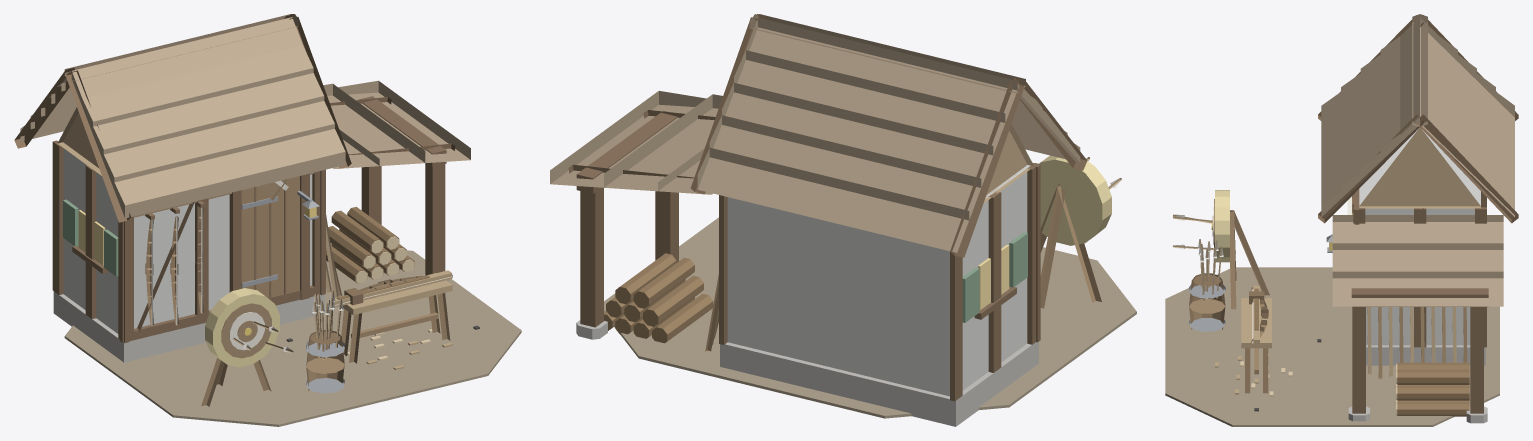
File: bowyer.glb
3 views of the same model, side by side, from view 1: azimuth 30°, elevation 25°; view 2: azimuth 150°, elevation 25°; view 3: azimuth 270°, elevation 25° (orthographic). The views are drawn at different scales.
Parts seen in each view (by area): view 1: Ground, Walls, Roof, Roof#2, Roof#3, Roof#4, Roof#5, Door, Plinth, Lean.Roof#2, Lean.Roof, Target (+34 smaller); view 2: Walls, Ground, Roof#6, Roof#7, Roof#8, Roof#9, Plinth, Roof#10, Lean.Roof#2, Target, Lean.Roof, Lean.Post (+25 smaller); view 3: Ground, Gable#2, Lean.Roof#2, Lean.Roof, Lean.Roof#3, Walls, Roof#3, Roof#4, Roof, Roof#2, Roof#5, Roof#6 (+23 smaller).
Part boxes in pixels (bbox=[...]): Ground: bbox=[64, 243, 521, 426]; Walls: bbox=[63, 148, 312, 333]; Roof: bbox=[114, 129, 345, 218]; Roof#2: bbox=[103, 101, 334, 189]; Roof#3: bbox=[93, 73, 324, 161]; Roof#4: bbox=[82, 45, 313, 133]; Roof#5: bbox=[71, 17, 302, 105]; Door: bbox=[241, 177, 299, 297]; Plinth: bbox=[53, 291, 324, 362]; Lean.Roof#2: bbox=[323, 83, 425, 165]; Lean.Roof: bbox=[338, 80, 470, 162]; Target: bbox=[205, 288, 279, 367]; Walls: bbox=[727, 165, 1030, 396]; Ground: bbox=[604, 217, 1136, 418]; Roof#6: bbox=[697, 147, 969, 252]; Roof#7: bbox=[709, 115, 981, 219]; Roof#8: bbox=[722, 82, 993, 186]; Roof#9: bbox=[734, 50, 1005, 154]; Plinth: bbox=[720, 342, 1038, 426]; Roof#10: bbox=[746, 18, 1017, 122]; Lean.Roof#2: bbox=[604, 94, 722, 191]; Target: bbox=[1039, 155, 1111, 245]; Lean.Roof: bbox=[550, 91, 706, 187]; Lean.Post: bbox=[580, 166, 603, 327]; Ground: bbox=[1165, 267, 1499, 426]; Gable#2: bbox=[1359, 127, 1480, 208]; Lean.Roof#2: bbox=[1332, 243, 1503, 271]; Lean.Roof: bbox=[1332, 271, 1503, 306]; Lean.Roof#3: bbox=[1332, 215, 1503, 243]; Walls: bbox=[1359, 128, 1480, 345]; Roof#3: bbox=[1360, 55, 1380, 179]; Roof#4: bbox=[1380, 36, 1400, 161]; Roof: bbox=[1321, 92, 1340, 216]; Roof#2: bbox=[1341, 73, 1360, 198]; Roof#5: bbox=[1400, 18, 1419, 142]; Roof#6: bbox=[1496, 92, 1514, 216].
Bounding box in the file's own units: 5.01 × 3.7 × 4.64.
